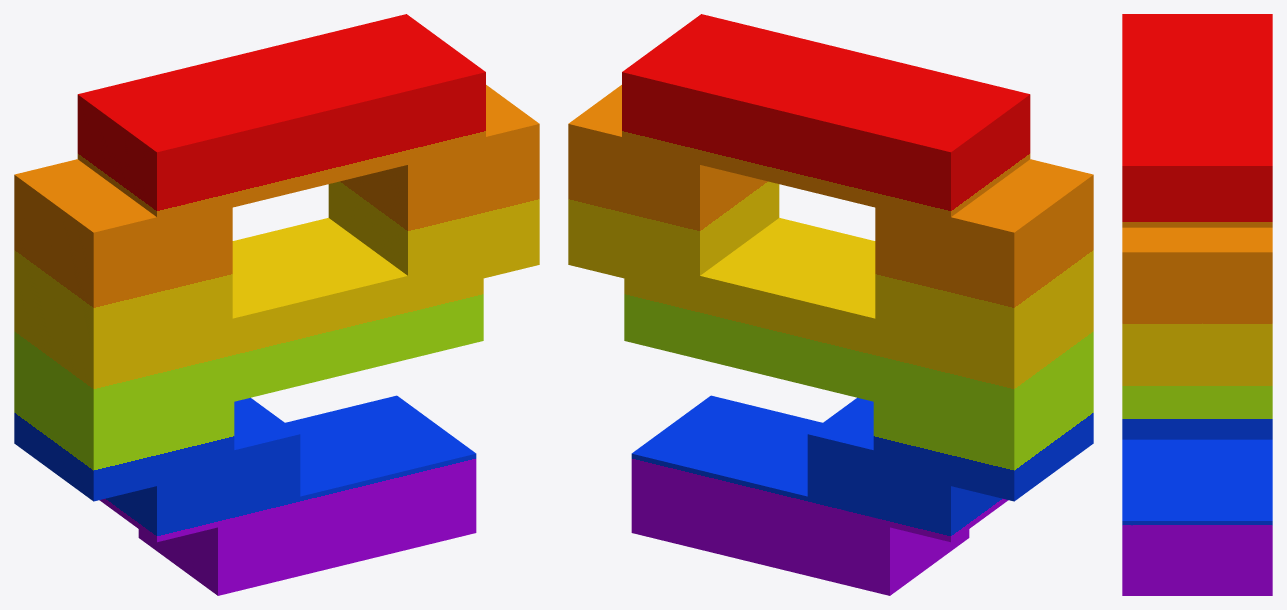
The model's file is Number_09.fbx.
3 renders of one model, left to right at view 1: azimuth 30°, elevation 25°; view 2: azimuth 150°, elevation 25°; view 3: azimuth 270°, elevation 25°, orthographic. The views are drawn at different scales.
Visible parts, largest first — view 1: Number_09; view 2: Number_09; view 3: Number_09.
Part boxes in pixels (box(x1,y1,x2,y2)): Number_09: box(14, 14, 539, 595); Number_09: box(568, 14, 1093, 595); Number_09: box(1122, 14, 1272, 595).
Size of the model in its own units: 78.87 by 77.46 by 24.3.
